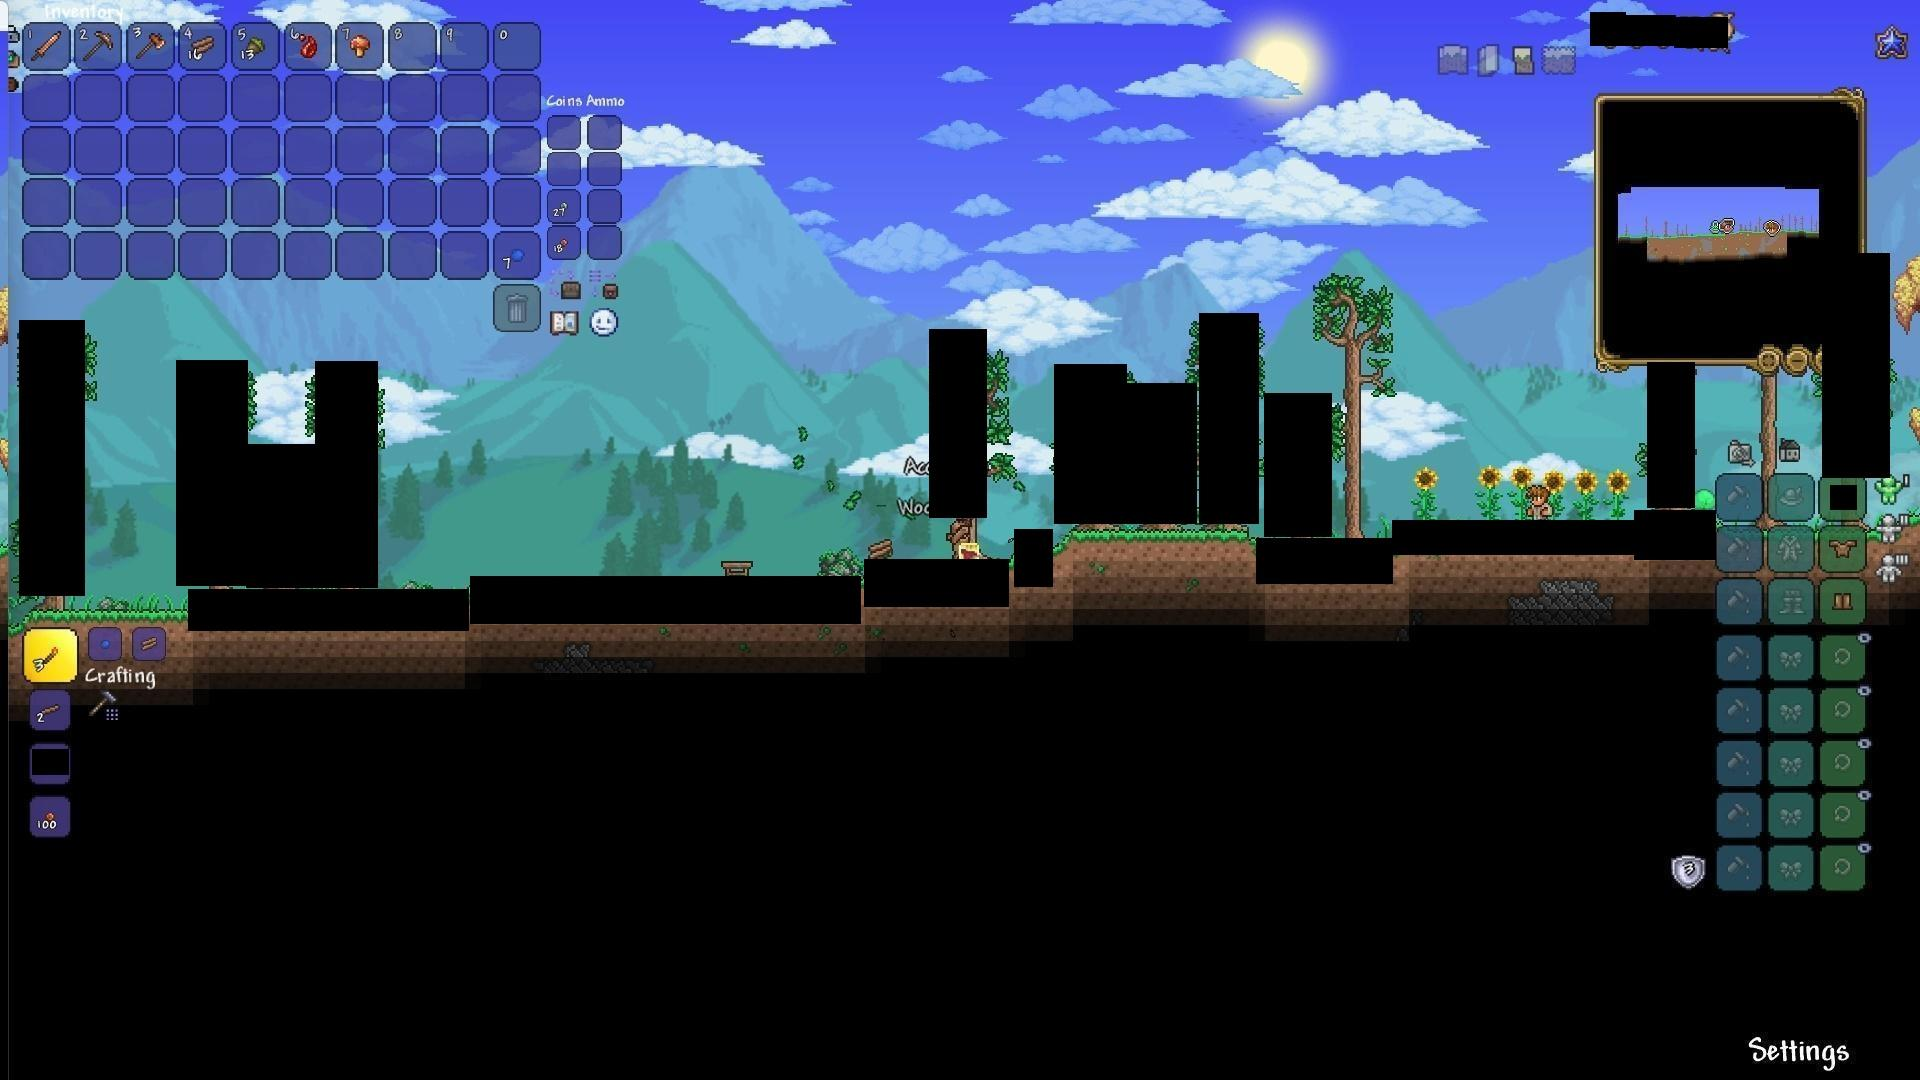breastplate: (1832, 538, 1859, 559)
dirt: (1059, 526, 1250, 567), (22, 600, 186, 626)
legs: (1830, 589, 1857, 615)
slime: (1695, 487, 1716, 510)
tree: (1333, 266, 1379, 537)
wood: (135, 630, 164, 658), (865, 535, 894, 563), (189, 36, 216, 61)
workbench: (719, 554, 756, 579)
